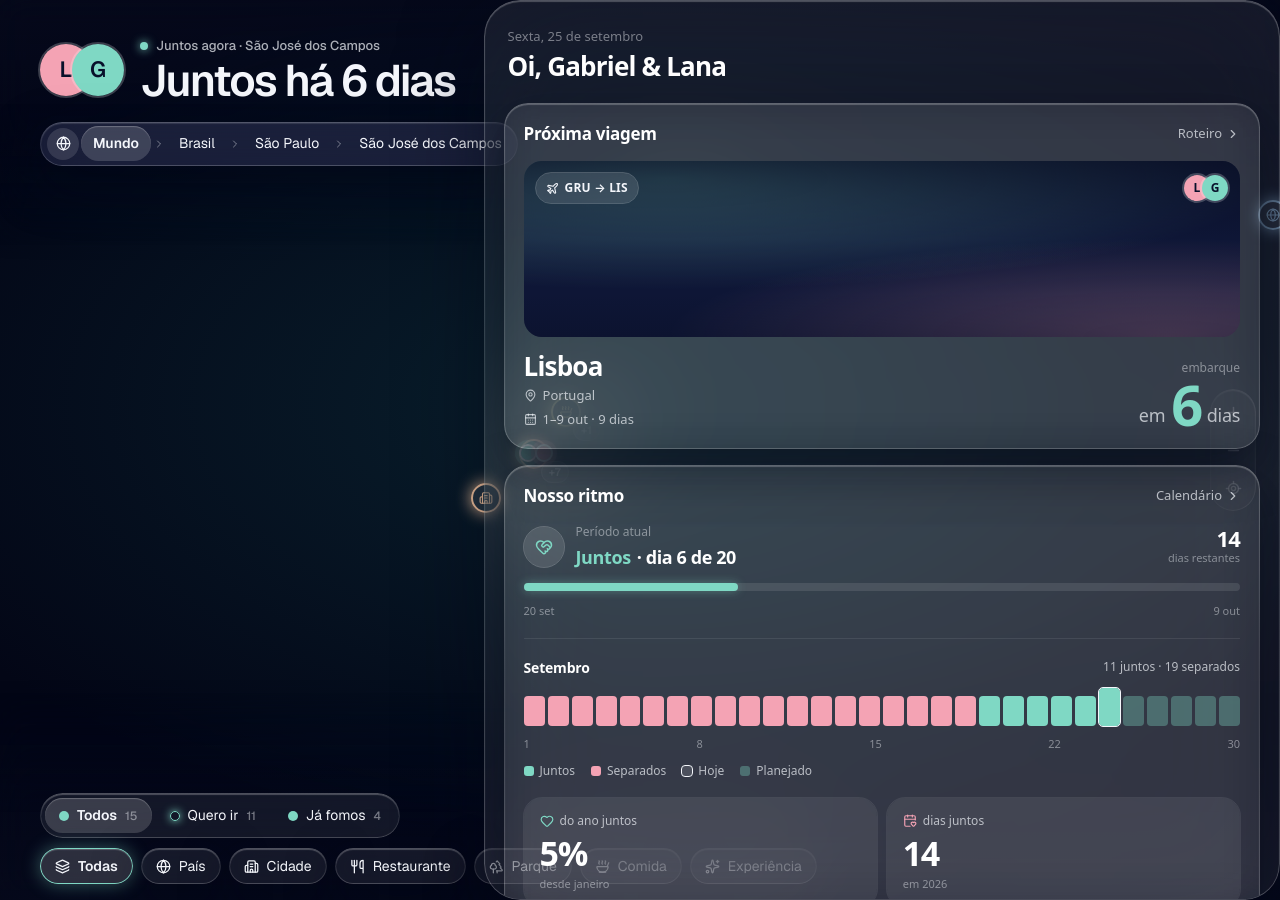
Test case: A10 — breadcrumb e seletores: Brasil → São Paulo → São José dos Campos › cada toque desce um nível, abre o seletor seguinte com a copy e as contagens, e voa a câmera
Click the button "Brasil": point(197, 144) [167,126,227,161]
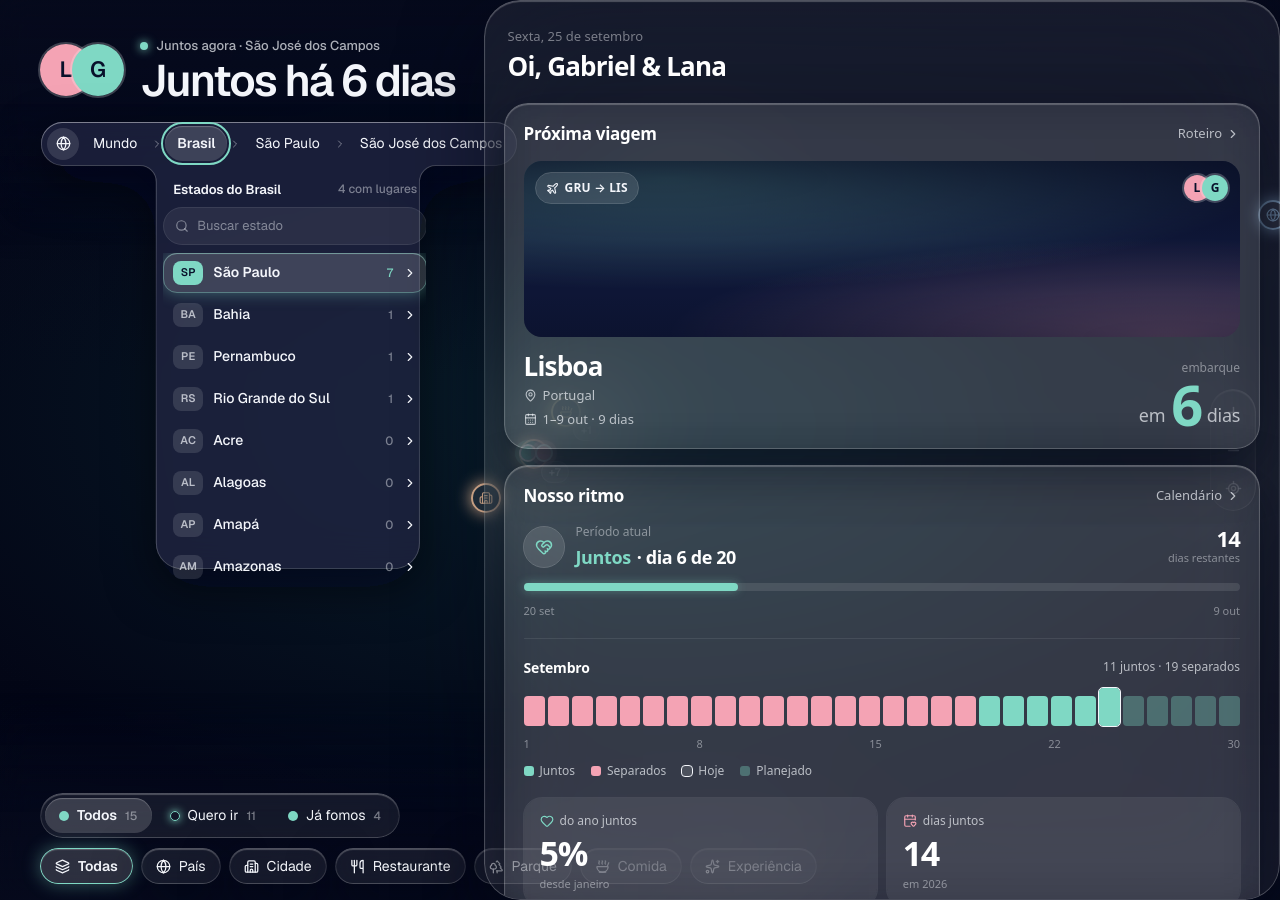
Now the text "4 com lugares" is shown, box [338,180,417,198]
Now the search field with placeholder "Buscar estado" is shown, box [197,216,415,236]
Click the button "SP São Paulo 7": point(247, 272) [163,252,427,292]
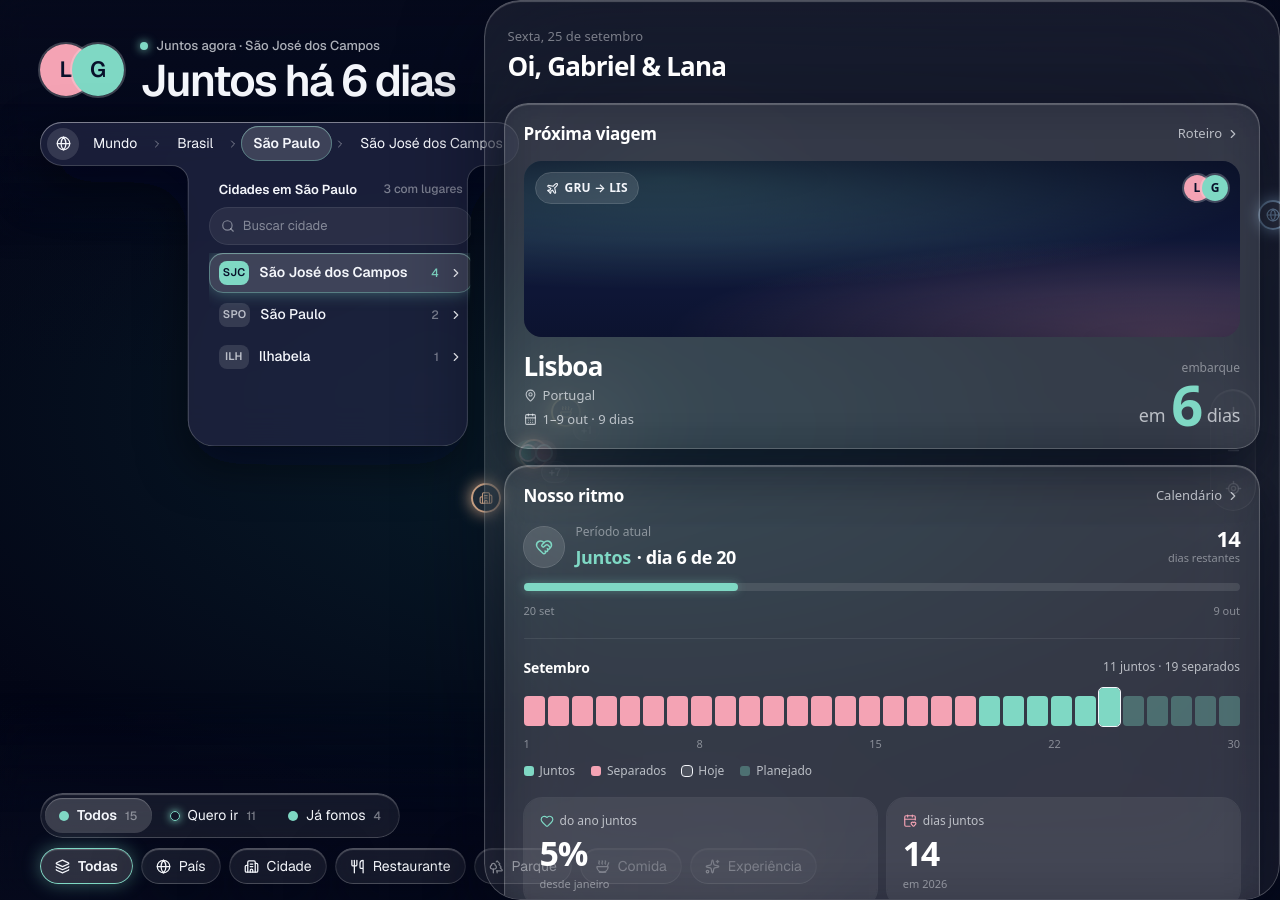
Expected: the button "São Paulo" is shown, [241,126,332,161]
Now the text "3 com lugares" is shown, box [384,180,463,198]
Now the search field with placeholder "Buscar cidade" is shown, box [243,216,461,236]
Click the button "SJC São José dos Campos 4": point(341, 272) [209,252,473,292]
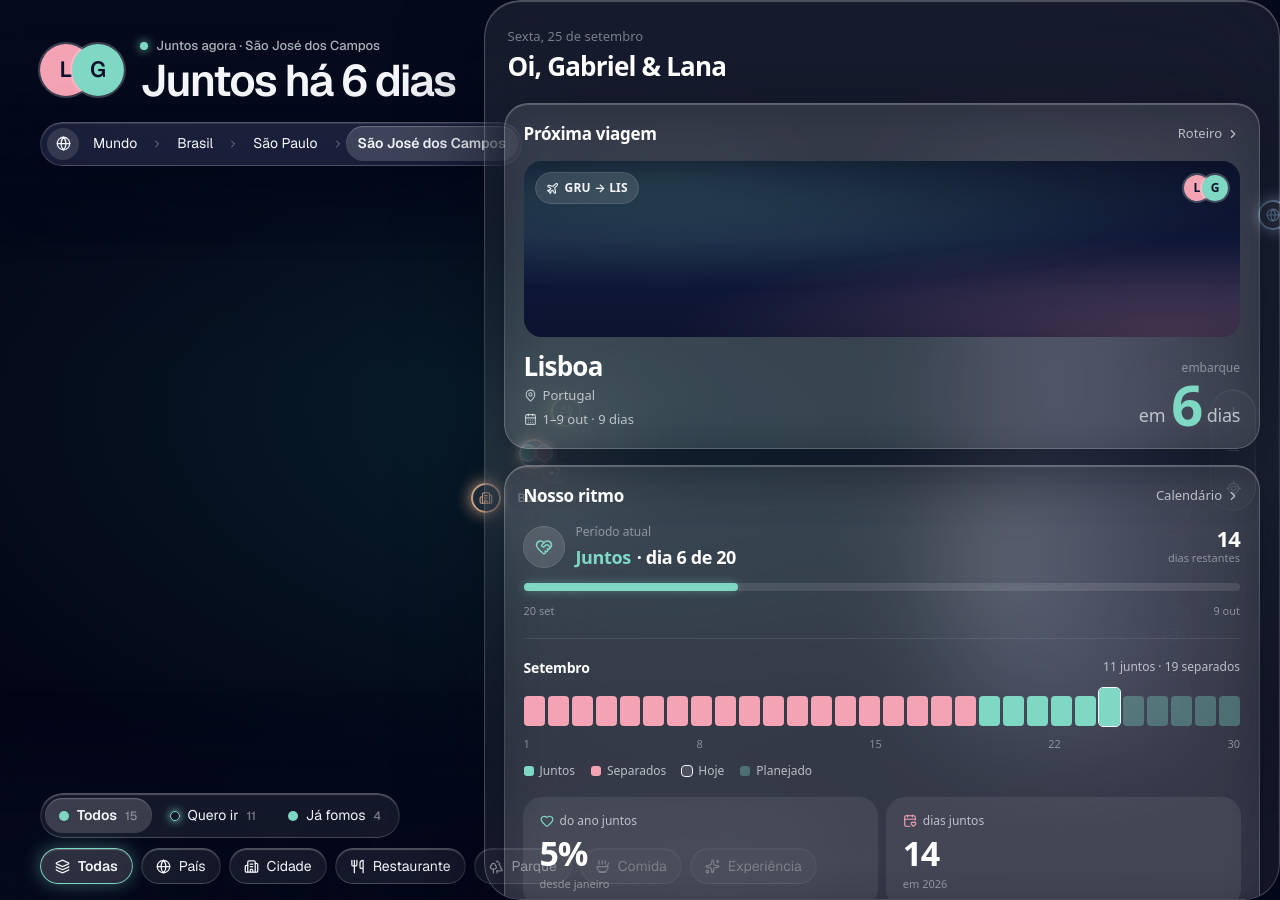
Expected: the button "São José dos Campos" is shown, [346,126,518,161]
Now the text "Cidades" is gone
Now the element "Aqui por perto" shows "7 lugares · até 150 km", box [956,168,1192,780]
